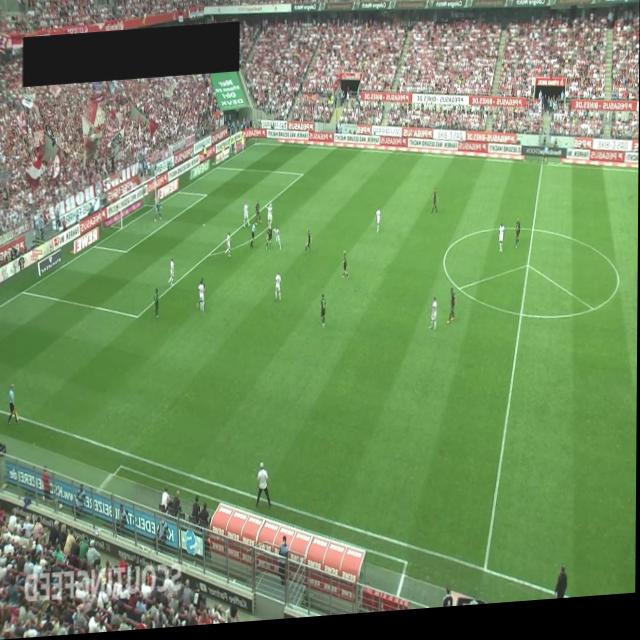goalkeeper: (155, 201, 163, 225)
player: (447, 294, 457, 331), (429, 303, 438, 337), (274, 275, 282, 306), (321, 297, 327, 334), (515, 226, 522, 256), (273, 232, 282, 254), (342, 256, 349, 284), (199, 284, 205, 316), (225, 234, 232, 261), (375, 213, 382, 239), (154, 291, 160, 321), (498, 231, 504, 261), (305, 232, 312, 257), (266, 229, 273, 253), (244, 204, 250, 232), (168, 260, 174, 288), (431, 196, 438, 220), (267, 207, 273, 235), (256, 204, 262, 228)
referee: (8, 383, 20, 425), (250, 224, 257, 252), (543, 152, 549, 174)
